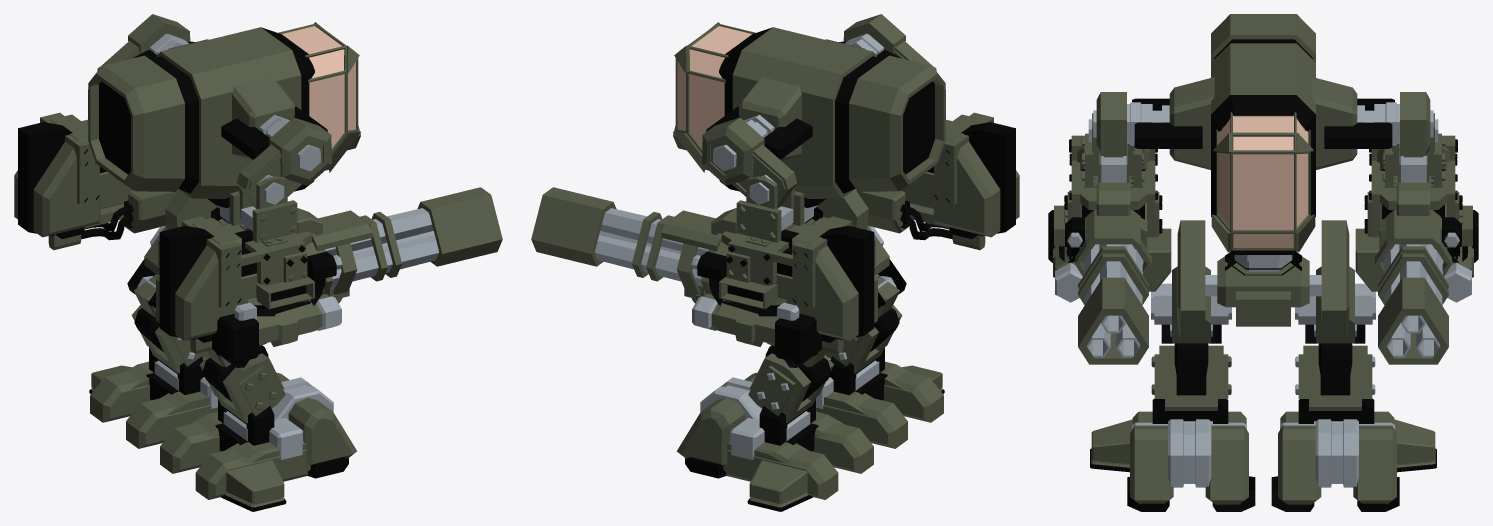
Rendered from alpha.glb.
3 views of the same model, side by side, from view 1: azimuth 30°, elevation 25°; view 2: azimuth 150°, elevation 25°; view 3: azimuth 270°, elevation 25° (orthographic). The views are drawn at different scales.
Parts seen in each view (by area): view 1: Cube.001, Cube.301, Cube.483, Cube.587, Cube.578, Cube.593, Cube.498, Cube.455, Cube.594, Cube.515, Cube.583, Cube.501 (+38 smaller); view 2: Cube.001, Cube.301, Cube.578, Cube.492, Cube.483, Cube.498, Cube.593, Cube.453, Cube.499, Cube.017, Cube.488, Cube.002 (+38 smaller); view 3: Cube.301, Cube.001, Cube.492, Cube.587, Cube.425, Cube.461, Cube.412, Cube.454, Cube.453, Cube.455, Cube.399, Cube.416 (+55 smaller).
Part boxes in pixels (x1=…): Cube.001: x1=88, y1=27, x2=314, y2=198; Cube.301: x1=278, y1=22, x2=360, y2=172; Cube.483: x1=14, y1=114, x2=100, y2=237; Cube.587: x1=417, y1=187, x2=502, y2=266; Cube.578: x1=156, y1=218, x2=241, y2=340; Cube.593: x1=159, y1=226, x2=214, y2=339; Cube.498: x1=18, y1=122, x2=72, y2=236; Cube.455: x1=288, y1=397, x2=357, y2=465; Cube.594: x1=222, y1=223, x2=311, y2=285; Cube.515: x1=247, y1=296, x2=341, y2=346; Cube.583: x1=269, y1=117, x2=331, y2=185; Cube.501: x1=232, y1=77, x2=294, y2=160; Cube.001: x1=719, y1=27, x2=945, y2=198; Cube.301: x1=673, y1=22, x2=755, y2=172; Cube.578: x1=933, y1=114, x2=1019, y2=237; Cube.492: x1=531, y1=187, x2=616, y2=266; Cube.483: x1=792, y1=218, x2=877, y2=340; Cube.498: x1=819, y1=226, x2=874, y2=339; Cube.593: x1=961, y1=122, x2=1015, y2=236; Cube.453: x1=676, y1=397, x2=745, y2=465; Cube.499: x1=722, y1=223, x2=811, y2=285; Cube.017: x1=692, y1=296, x2=786, y2=346; Cube.488: x1=702, y1=117, x2=764, y2=185; Cube.002: x1=739, y1=77, x2=801, y2=160; Cube.301: x1=1211, y1=112, x2=1315, y2=252; Cube.001: x1=1211, y1=14, x2=1315, y2=216; Cube.492: x1=1378, y1=277, x2=1448, y2=364; Cube.587: x1=1078, y1=277, x2=1148, y2=364; Cube.425: x1=1321, y1=220, x2=1349, y2=339; Cube.461: x1=1177, y1=220, x2=1205, y2=339; Cube.412: x1=1205, y1=425, x2=1248, y2=504; Cube.454: x1=1278, y1=425, x2=1321, y2=504; Cube.453: x1=1353, y1=425, x2=1396, y2=504; Cube.455: x1=1130, y1=425, x2=1173, y2=504; Cube.399: x1=1217, y1=256, x2=1309, y2=307; Cube.416: x1=1168, y1=419, x2=1211, y2=487.
Bounding box in the file's own units: 3.77 × 4.36 × 4.14.
